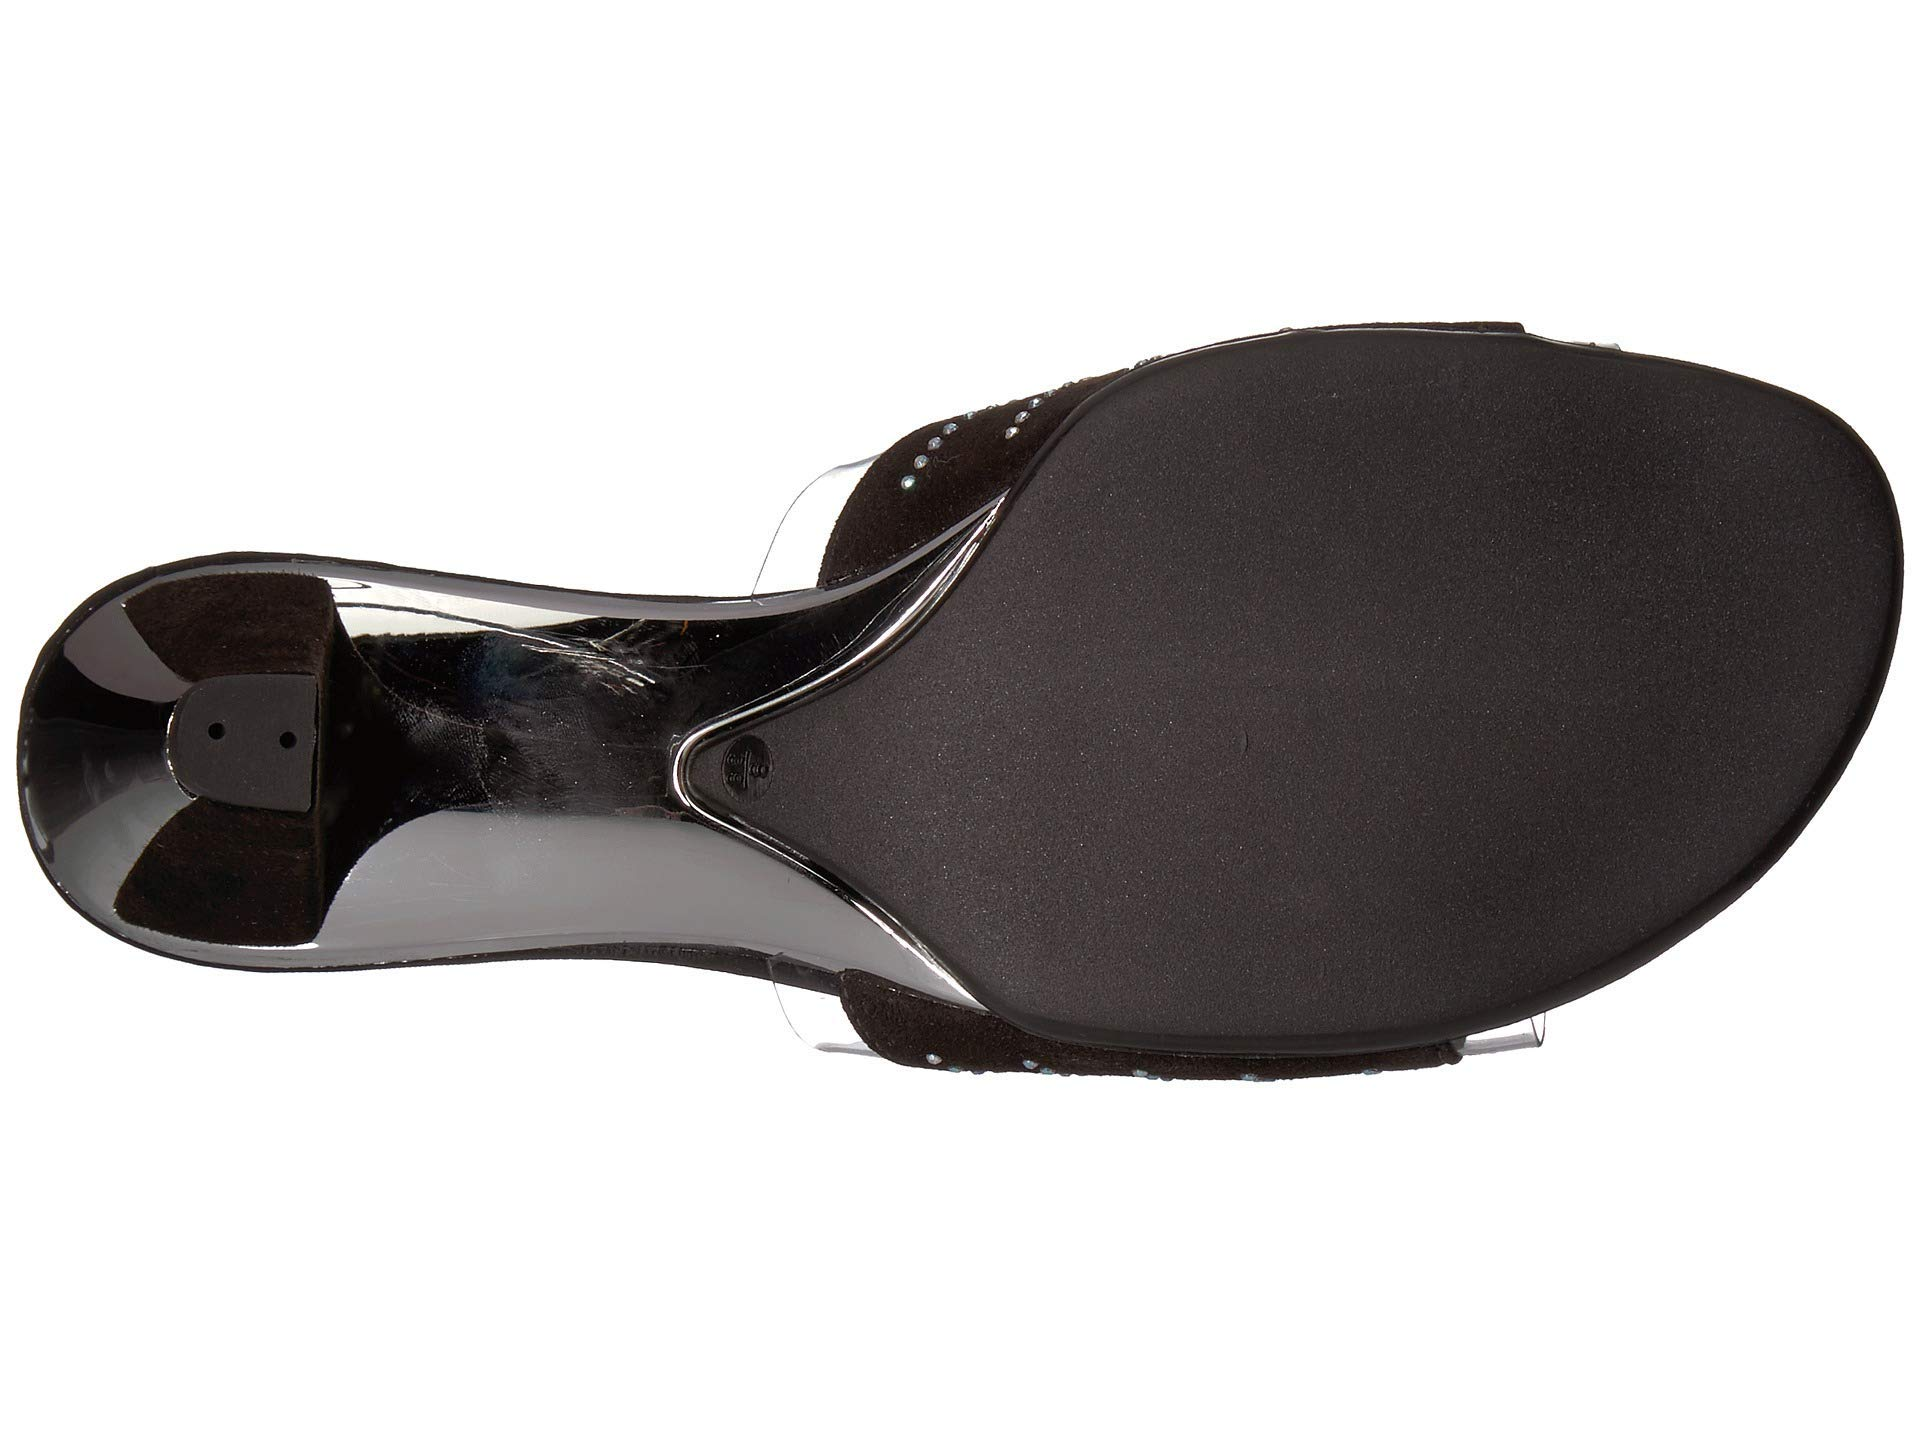circle: (190, 691, 308, 787), (715, 728, 788, 814)
line: (715, 728, 788, 814)
text: (715, 728, 788, 814)
